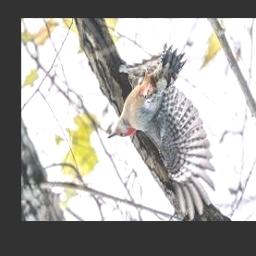Woodpecker: (108, 44, 215, 221)
